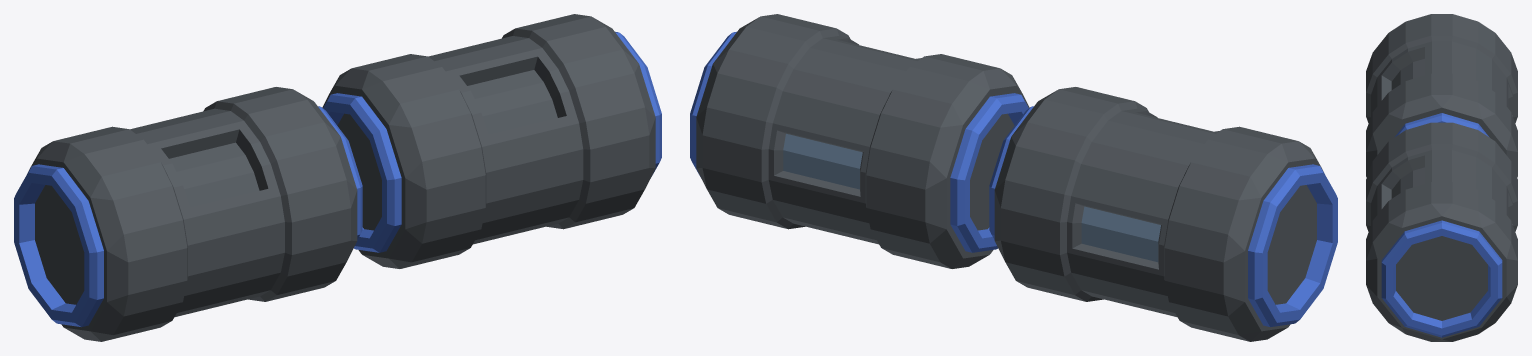
File: Dropship_01_Tank_Blue.fbx
3 views of the same model, side by side, from view 1: azimuth 30°, elevation 25°; view 2: azimuth 150°, elevation 25°; view 3: azimuth 270°, elevation 25° (orthographic). The views are drawn at different scales.
Parts seen in each view (by area): view 1: Dropship_01_Tank_Blue; view 2: Dropship_01_Tank_Blue; view 3: Dropship_01_Tank_Blue.
Boxes of the visible parts, <box> form: Dropship_01_Tank_Blue: <box>14,14,661,341</box>; Dropship_01_Tank_Blue: <box>690,14,1337,341</box>; Dropship_01_Tank_Blue: <box>1366,14,1517,341</box>.
Size of the model in its own units: 867 by 268 by 267.
Materials: 2 (2 with a texture image).
